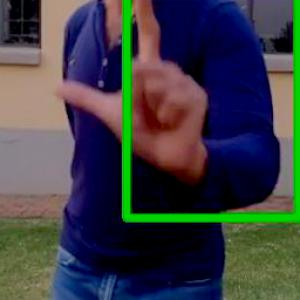land_hand: (52, 0, 213, 173)
